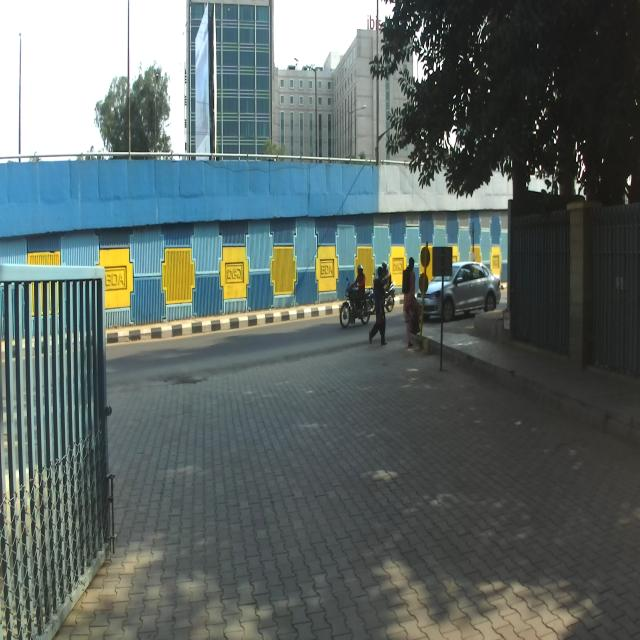gate ahead at: (2, 267, 120, 640)
person ahead at: (367, 265, 391, 351)
